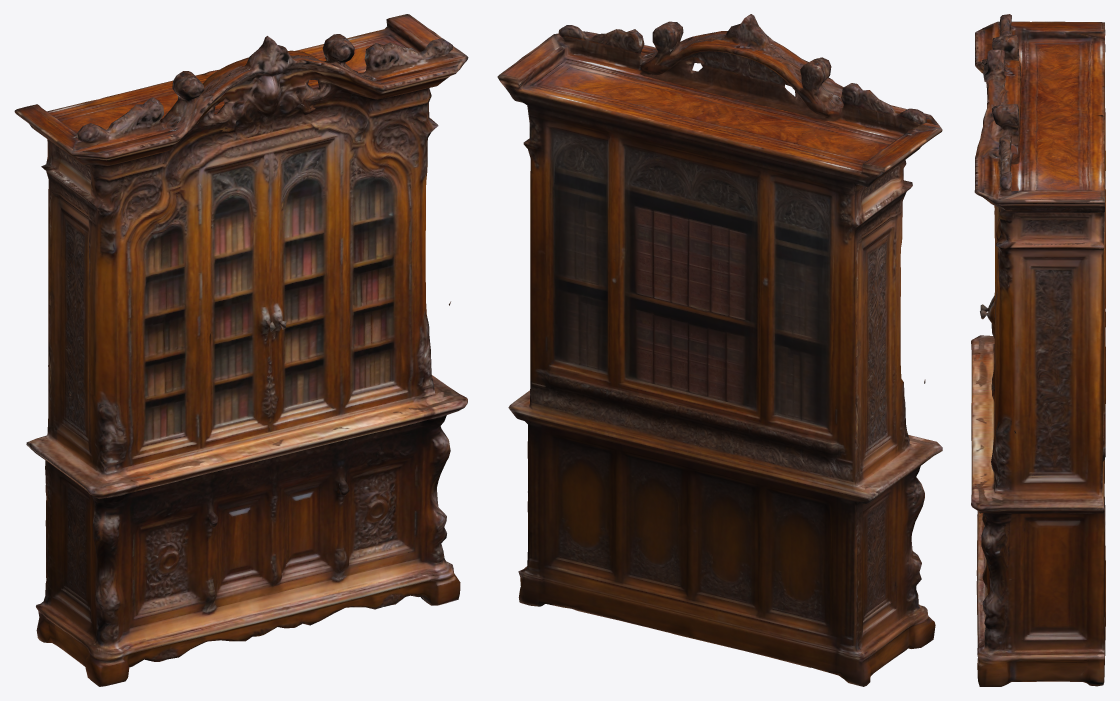
Rendered from An_ornate_carved_Vict_0613152345_texture.fbx.
3 renders of one model, left to right at view 1: azimuth 30°, elevation 25°; view 2: azimuth 150°, elevation 25°; view 3: azimuth 270°, elevation 25°, orthographic. The views are drawn at different scales.
Visible parts, largest first — view 1: Mesh1_Mesh1.181; view 2: Mesh1_Mesh1.181; view 3: Mesh1_Mesh1.181.
Boxes of the visible parts, x1,y1,x2,y2 form: Mesh1_Mesh1.181: [14, 14, 468, 686]; Mesh1_Mesh1.181: [497, 14, 942, 686]; Mesh1_Mesh1.181: [971, 14, 1105, 686].
Size of the model in its own units: 138 by 200 by 43.82.
Materials: 1 (1 with a texture image).
